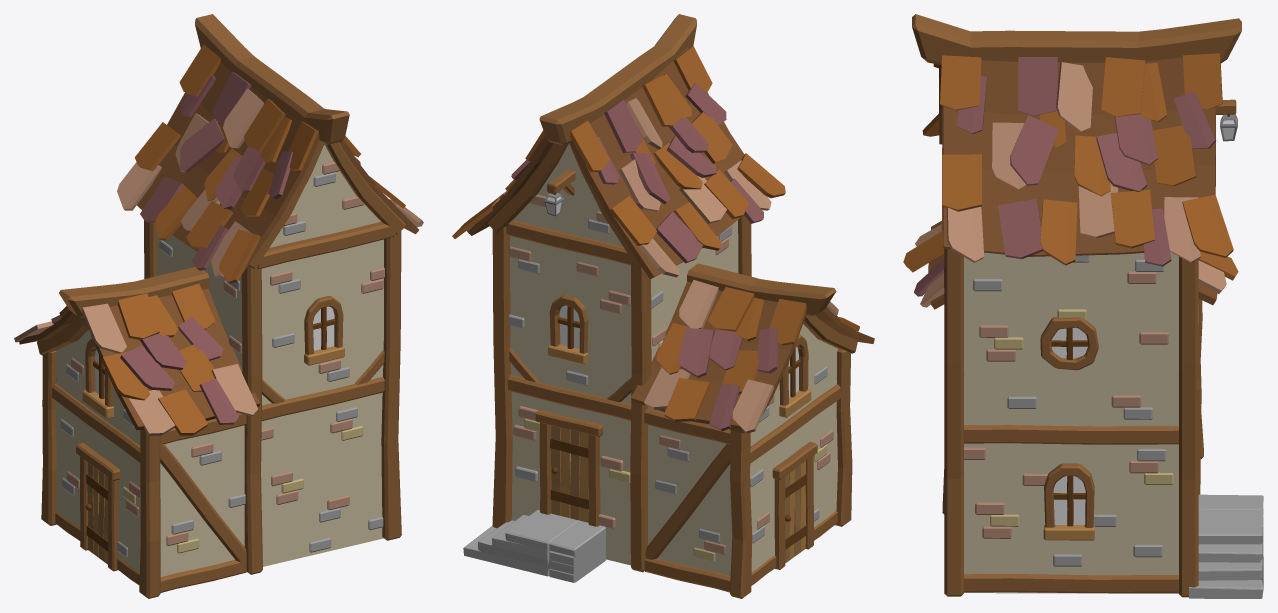
File: Petite Maison 2.fbx
3 renders of one model, left to right at view 1: azimuth 30°, elevation 25°; view 2: azimuth 150°, elevation 25°; view 3: azimuth 270°, elevation 25°, orthographic. The views are drawn at different scales.
Parts seen in each view (by area): view 1: Plane.001, Plane.002, Plan.019, Cube.187, Cube.188, Cube.199, Plan.021, Cube.195, Cube.224, Plane.004, Cube.182, Cube.189 (+51 smaller); view 2: Plane, Plane.002, Cube.186, Plan.019, Cube.172, Cube.171, Cube.199, Plan.022, Cube.182, Cube.224, Plane.004, Cube.195 (+56 smaller); view 3: Plane.003, Plan.020, Cube.199, Cube.186, Cube.187, Cube.171, Cube.214, Cube.215, Cube.306, Cube.303, Cube.312, Cube.325 (+29 smaller).
Part boxes in pixels (x1,y1,x2,y2): Plane.001: [160, 144, 383, 577]; Plane.002: [56, 329, 140, 572]; Plan.019: [137, 62, 319, 276]; Cube.187: [381, 231, 401, 540]; Cube.188: [241, 266, 262, 574]; Cube.199: [195, 14, 349, 144]; Plan.021: [84, 288, 260, 430]; Cube.195: [139, 429, 160, 598]; Cube.224: [59, 266, 209, 318]; Plane.004: [157, 231, 242, 368]; Cube.182: [41, 350, 57, 525]; Cube.189: [256, 222, 396, 269]; Plane: [510, 143, 732, 575]; Plane.002: [750, 324, 837, 572]; Cube.186: [463, 510, 605, 582]; Plan.019: [570, 47, 744, 279]; Cube.172: [630, 259, 651, 572]; Cube.171: [492, 226, 512, 528]; Cube.199: [539, 14, 696, 145]; Plan.022: [631, 281, 806, 429]; Cube.182: [730, 430, 752, 598]; Cube.224: [687, 263, 836, 316]; Plane.004: [651, 220, 738, 361]; Cube.195: [835, 349, 852, 526]; Plane.003: [964, 252, 1178, 593]; Plan.020: [943, 57, 1215, 256]; Cube.199: [912, 14, 1241, 65]; Cube.186: [1189, 494, 1263, 598]; Cube.187: [944, 248, 963, 596]; Cube.171: [1179, 256, 1198, 597]; Cube.214: [964, 425, 1178, 444]; Cube.215: [964, 574, 1178, 593]; Cube.306: [1101, 57, 1145, 116]; Cube.303: [1018, 57, 1057, 115]; Cube.312: [942, 154, 981, 211]; Cube.325: [1110, 189, 1155, 248].
Size of the model in its own units: 419 by 568 by 346.
